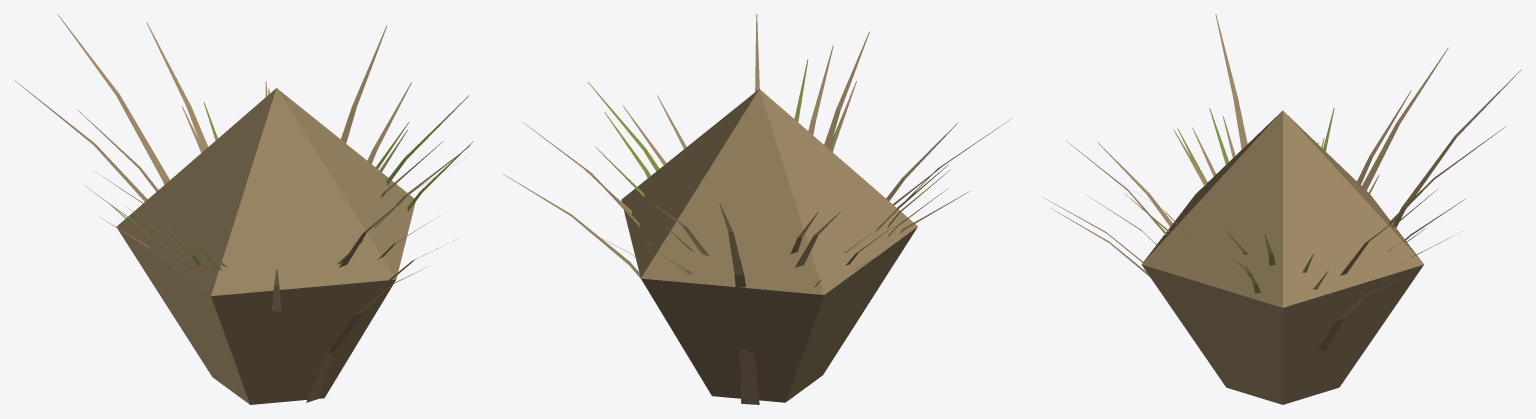
Rendered from city_grass.glb.
3 renders of one model, left to right at view 1: azimuth 30°, elevation 25°; view 2: azimuth 150°, elevation 25°; view 3: azimuth 270°, elevation 25°, orthographic. The views are drawn at different scales.
Visible parts, largest first — view 1: CityGrass_Far, CityGrass_Dry, CityGrass_Green; view 2: CityGrass_Far, CityGrass_Dry, CityGrass_Green; view 3: CityGrass_Far, CityGrass_Dry, CityGrass_Green.
Boxes of the visible parts, bbox=[...] form: CityGrass_Far: bbox=[116, 88, 415, 404]; CityGrass_Dry: bbox=[14, 14, 470, 402]; CityGrass_Green: bbox=[84, 95, 473, 395]; CityGrass_Far: bbox=[621, 89, 917, 402]; CityGrass_Dry: bbox=[502, 14, 1011, 404]; CityGrass_Green: bbox=[588, 59, 950, 286]; CityGrass_Far: bbox=[1141, 110, 1423, 404]; CityGrass_Dry: bbox=[1043, 14, 1521, 351]; CityGrass_Green: bbox=[1087, 108, 1438, 293].
Bounding box in the file's own units: 0.8964 × 0.6017 × 0.9699.
